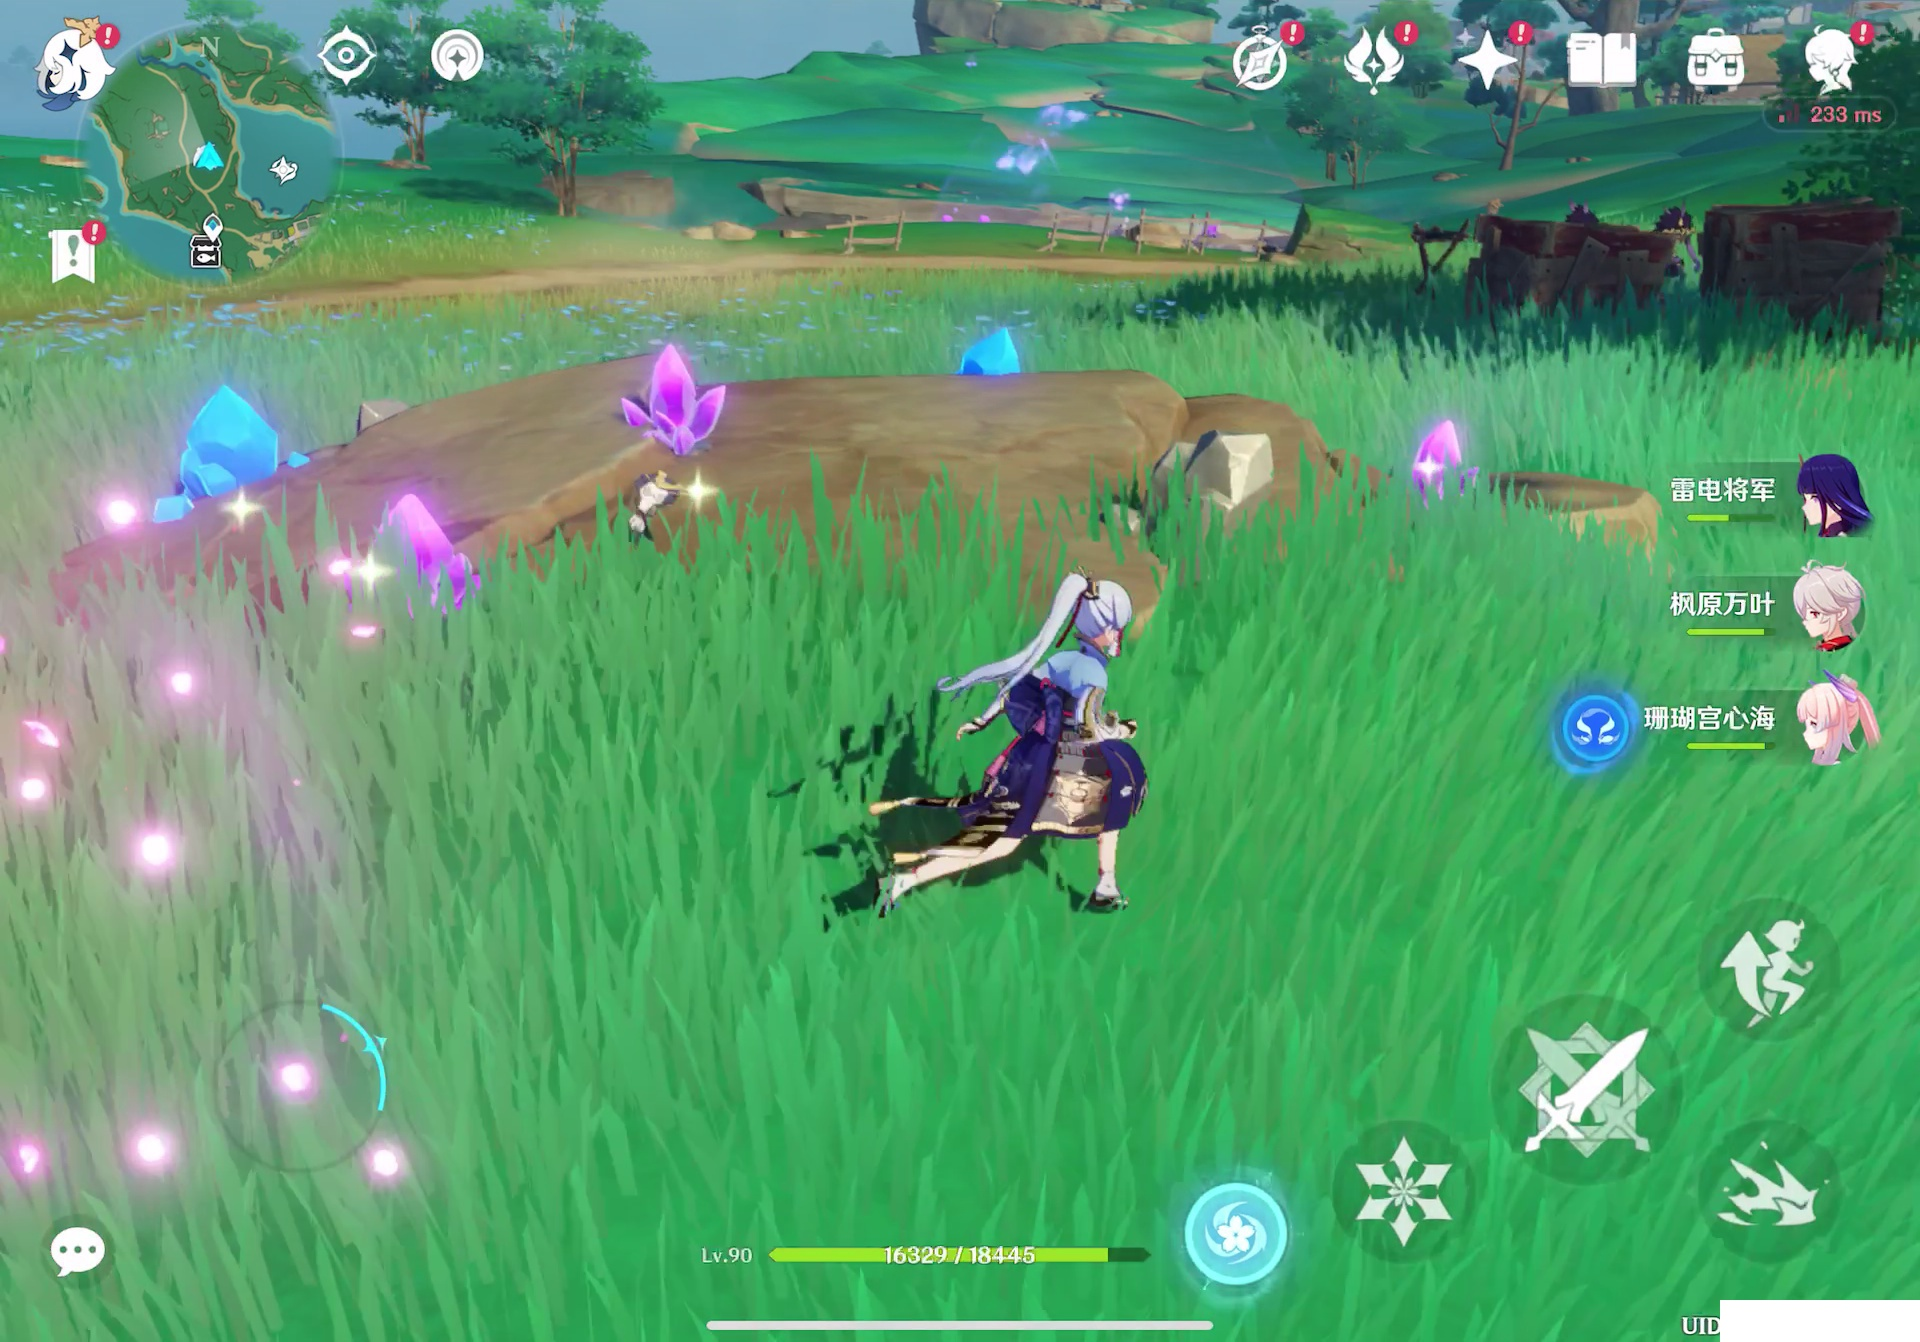白铁矿石: (1142, 424, 1290, 522), (349, 389, 409, 432)
神里绫龟: (856, 556, 1196, 936)
紫矿石: (346, 492, 481, 627), (619, 338, 751, 457), (1411, 410, 1488, 487)
蓝矿石: (160, 389, 298, 503), (956, 317, 1029, 381)
